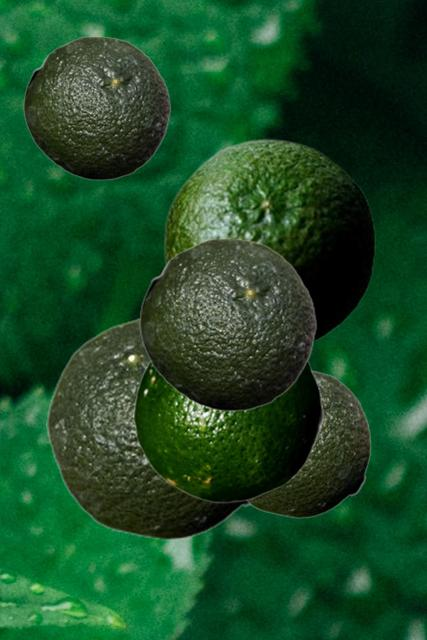calamansi: (46, 315, 250, 539), (163, 138, 374, 343), (139, 238, 316, 410), (133, 360, 323, 502), (23, 36, 170, 179), (245, 368, 370, 517)
